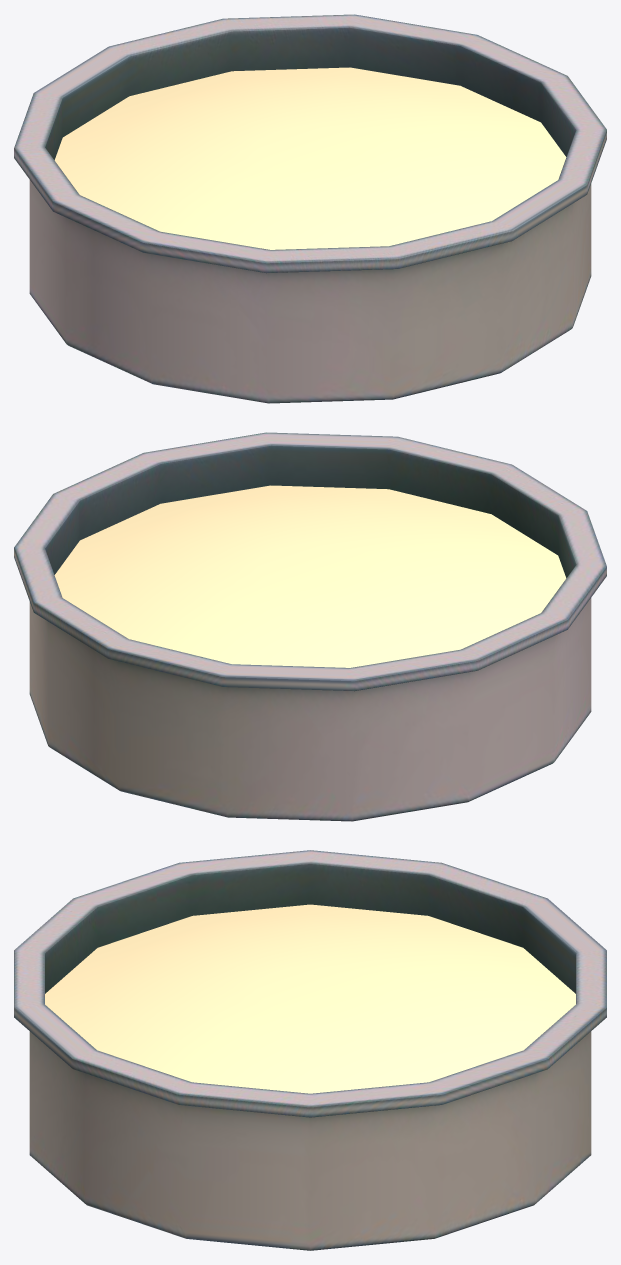
File: bakingTinDough.glb
3 renders of one model, top to bottom at view 1: azimuth 30°, elevation 25°; view 2: azimuth 150°, elevation 25°; view 3: azimuth 270°, elevation 25°, orthographic. The views are drawn at different scales.
Parts seen in each view (by area): view 1: BakingTin, Cylinder; view 2: BakingTin, Cylinder; view 3: BakingTin, Cylinder.
Part boxes in pixels (x1,y1,x2,y2): BakingTin: (14, 14, 606, 403); Cylinder: (54, 67, 566, 249); BakingTin: (14, 432, 606, 821); Cylinder: (54, 485, 566, 667); BakingTin: (14, 850, 606, 1250); Cylinder: (45, 904, 575, 1093).
Size of the model in its own units: 0.4193 by 0.1154 by 0.4088.
2 materials, 2 textured.
